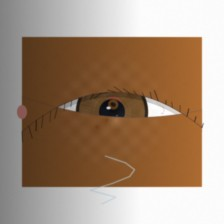foreign_body_visible: (99, 93, 127, 116)
